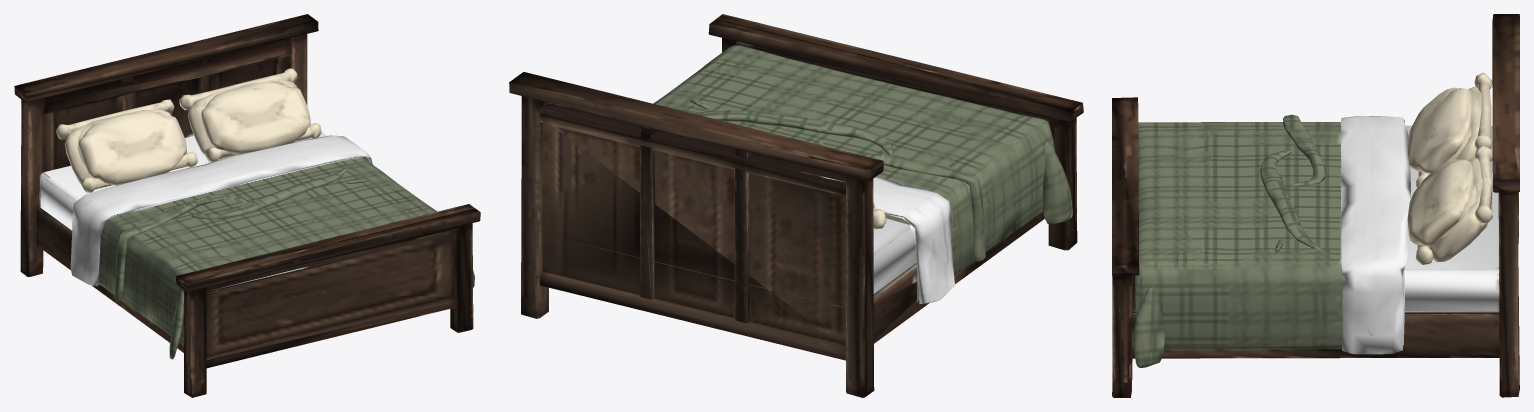
Rendered from Bed_A.fbx.
3 renders of one model, left to right at view 1: azimuth 30°, elevation 25°; view 2: azimuth 150°, elevation 25°; view 3: azimuth 270°, elevation 25°, orthographic. The views are drawn at different scales.
Visible parts, largest first — view 1: Mesh_0; view 2: Mesh_0; view 3: Mesh_0.
Part boxes in pixels (x1=…): Mesh_0: x1=14, y1=14, x2=480, y2=397; Mesh_0: x1=509, y1=14, x2=1083, y2=397; Mesh_0: x1=1112, y1=14, x2=1519, y2=397.
Size of the model in its own units: 100 by 59.87 by 100.
Materials: 1 (1 with a texture image).
